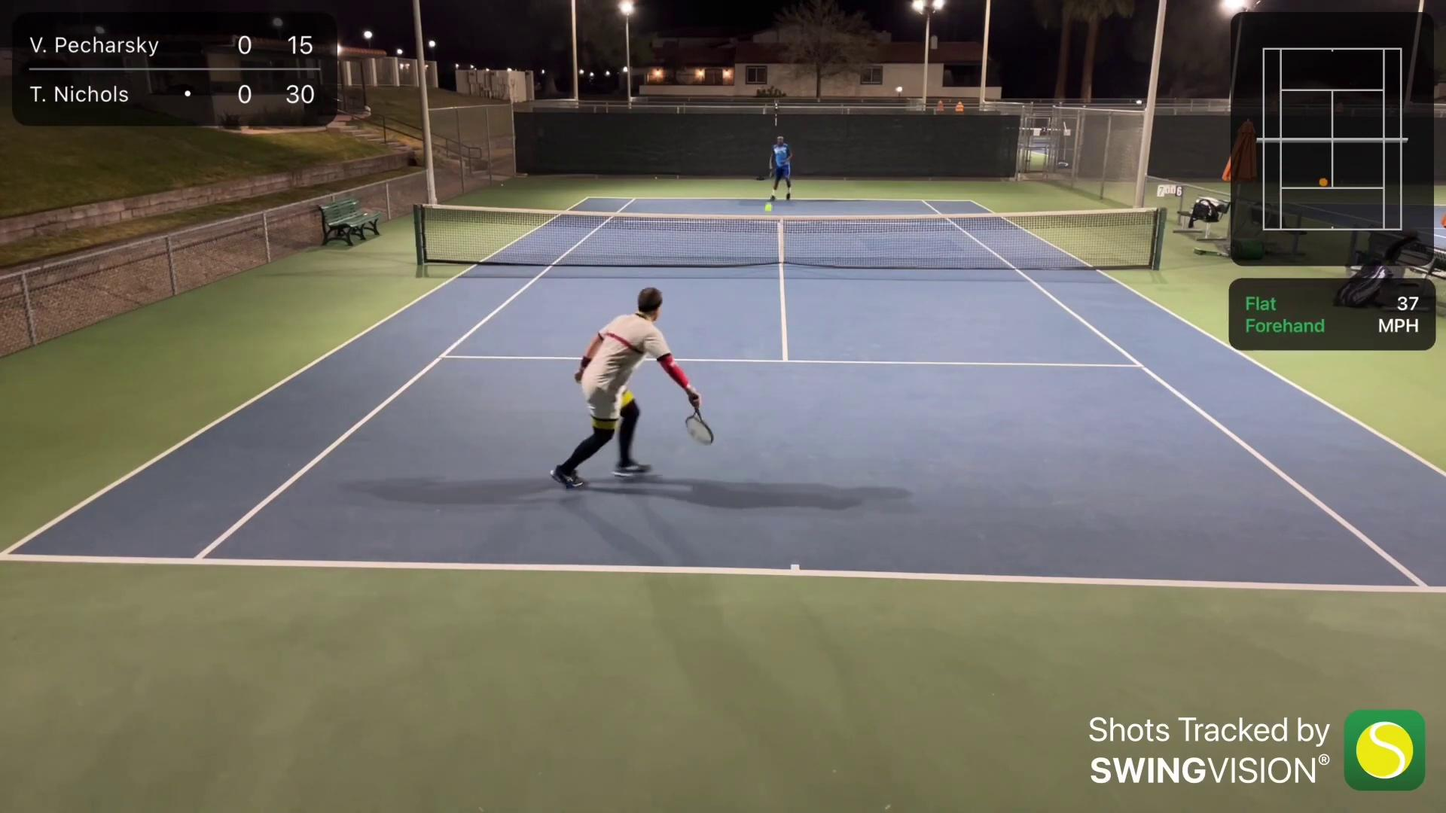ball: (763, 202, 773, 211)
